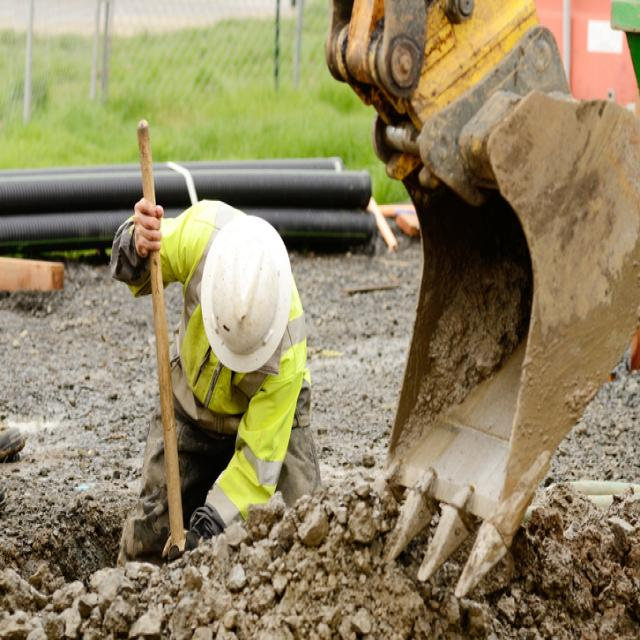helmet: (198, 212, 293, 375)
